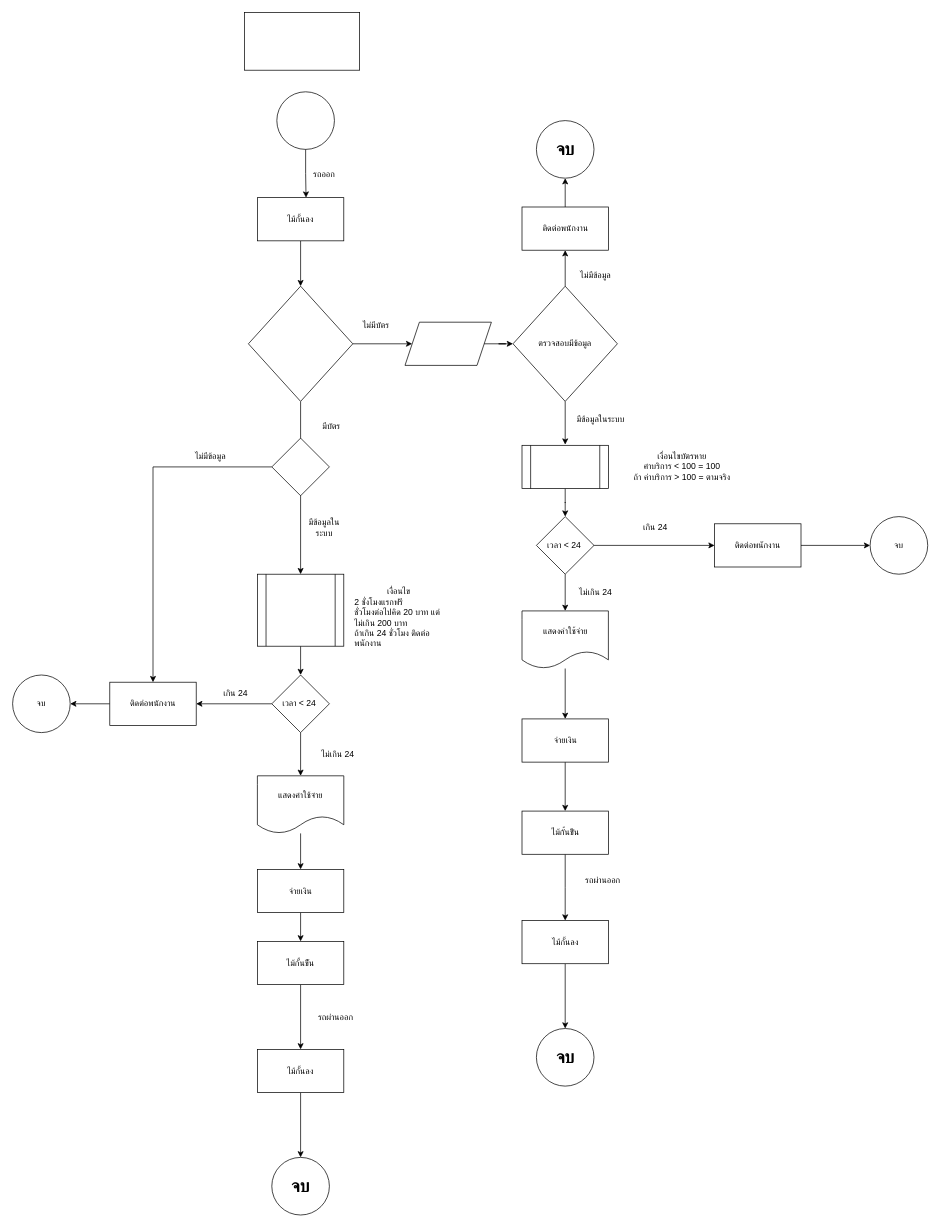
Image size: 940x1228. Some labels were removed from this diagram. Here are the shapes that lost their labels. From the top down, the box of each, then its label:
(244, 12, 360, 70): ขาออก
(276, 91, 334, 149): เริ่ม
(248, 285, 353, 401): มีบัตรหรือไม่
(404, 321, 491, 365): รับข้อมูล บัตรประชาชน ทะเบียนรถ
(271, 437, 329, 496): ตรวจสอบ ข้อมูล
(521, 445, 608, 489): คำนวณเวลา คำนวณเงิน
(257, 573, 344, 646): เวลา < 2 = 0 เวลา > 2 = (เวลา - 2) * 20
